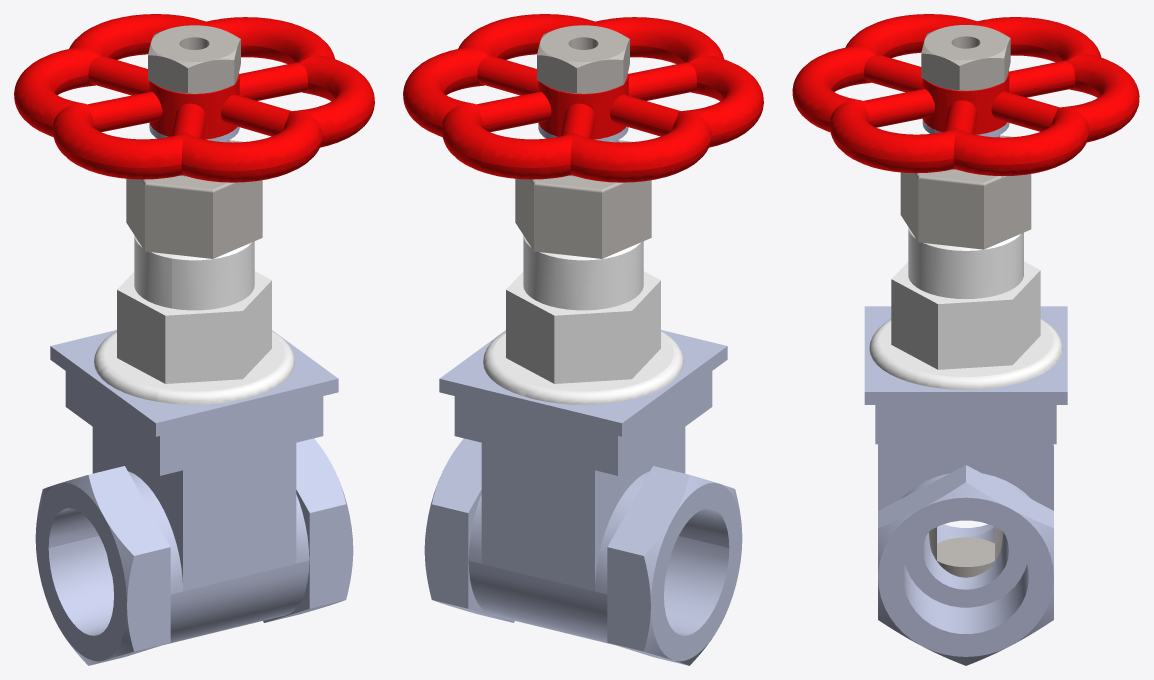
File: GateValveAsy.glb
3 renders of one model, left to right at view 1: azimuth 30°, elevation 25°; view 2: azimuth 150°, elevation 25°; view 3: azimuth 270°, elevation 25°, orthographic. The views are drawn at different scales.
Parts seen in each view (by area): view 1: GateValve_node, HandWheel_node, nodes[11], Gland Nut_node, nodes[10], NUt_node; view 2: GateValve_node, HandWheel_node, nodes[11], Gland Nut_node, nodes[10], NUt_node; view 3: GateValve_node, HandWheel_node, nodes[11], Gland Nut_node, nodes[10], NUt_node, wageValve_node.
Boxes of the visible parts, x1,y1,x2,y2 form: GateValve_node: [35, 330, 353, 665]; HandWheel_node: [14, 14, 374, 182]; nodes[11]: [94, 271, 294, 404]; Gland Nut_node: [126, 140, 262, 258]; nodes[10]: [134, 235, 254, 310]; NUt_node: [148, 25, 240, 93]; GateValve_node: [424, 330, 742, 665]; HandWheel_node: [403, 14, 763, 182]; nodes[11]: [483, 271, 683, 404]; Gland Nut_node: [515, 140, 651, 258]; nodes[10]: [523, 235, 643, 310]; NUt_node: [537, 25, 629, 93]; GateValve_node: [864, 306, 1067, 665]; HandWheel_node: [792, 14, 1139, 176]; nodes[11]: [869, 261, 1062, 389]; Gland Nut_node: [900, 135, 1031, 249]; nodes[10]: [908, 227, 1023, 298]; NUt_node: [921, 25, 1010, 90]; wageValve_node: [928, 527, 1003, 577].
Bounding box in the file's own units: 68.46 × 131 × 71.83.
